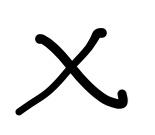mult: (16, 28, 128, 116)
